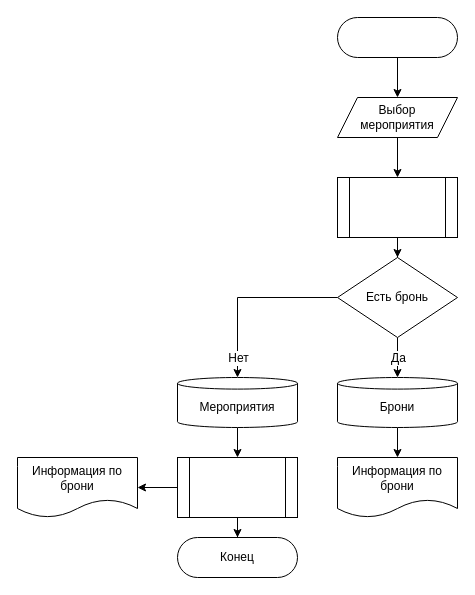
The diagram is 475 pixels wide and 595 high, and some of its shapes have lost their labels. The shapes that lost their labels are listed below. From the top down, each one's centre as x and y in pixels, then its label:
At (x=397, y=37): "Начало".
At (x=397, y=207): "Проверка наличия броней".
At (x=237, y=487): "Сбор данных требуемых для создания брони".
